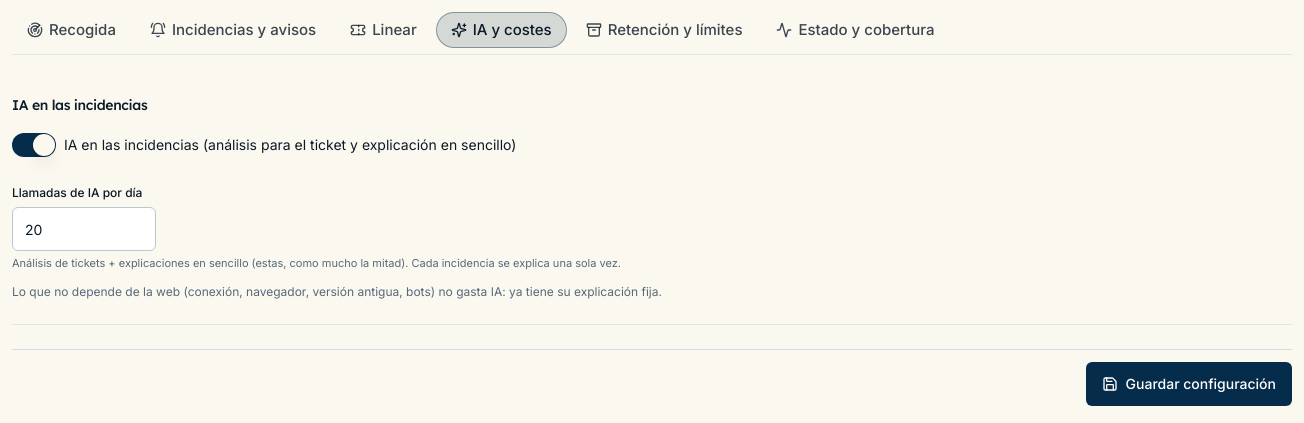
Test: Configuración en subpestañas › «Descartar» vuelve a lo guardado
Replace the text in the number field labelled "Llamadas de IA por día" with "5" at (84,229), box [12, 207, 156, 251]
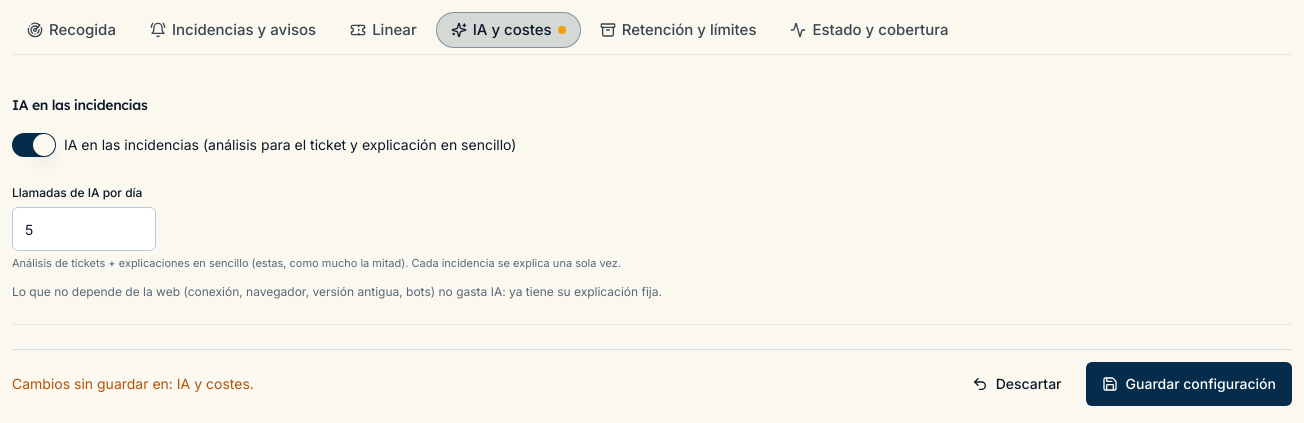
Click the button "Descartar".
click(1017, 384)  # box [956, 362, 1078, 406]
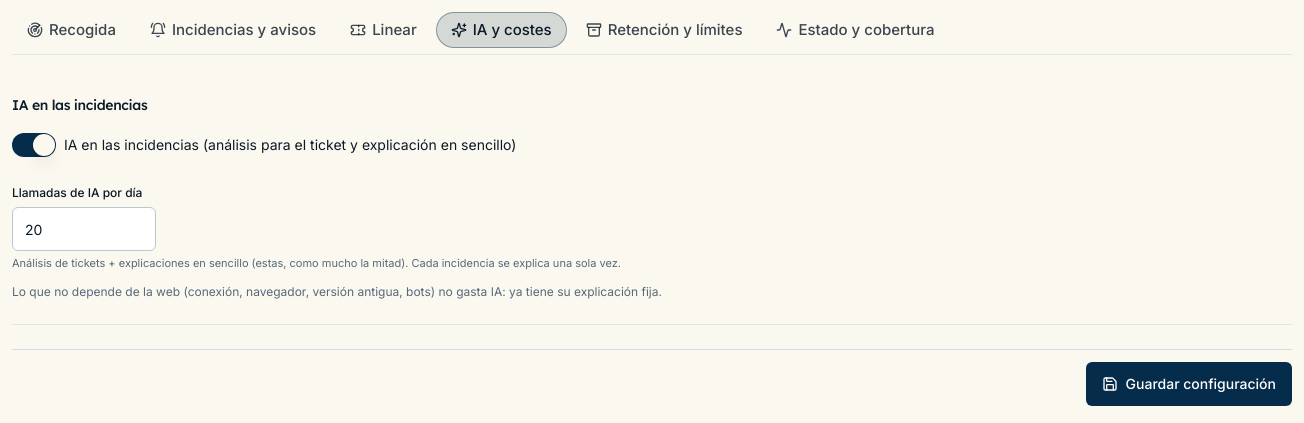
Now the message with test id "aviso-sin-guardar" is gone
Now the number field labelled "Llamadas de IA por día" holds "20", box [12, 207, 156, 251]
